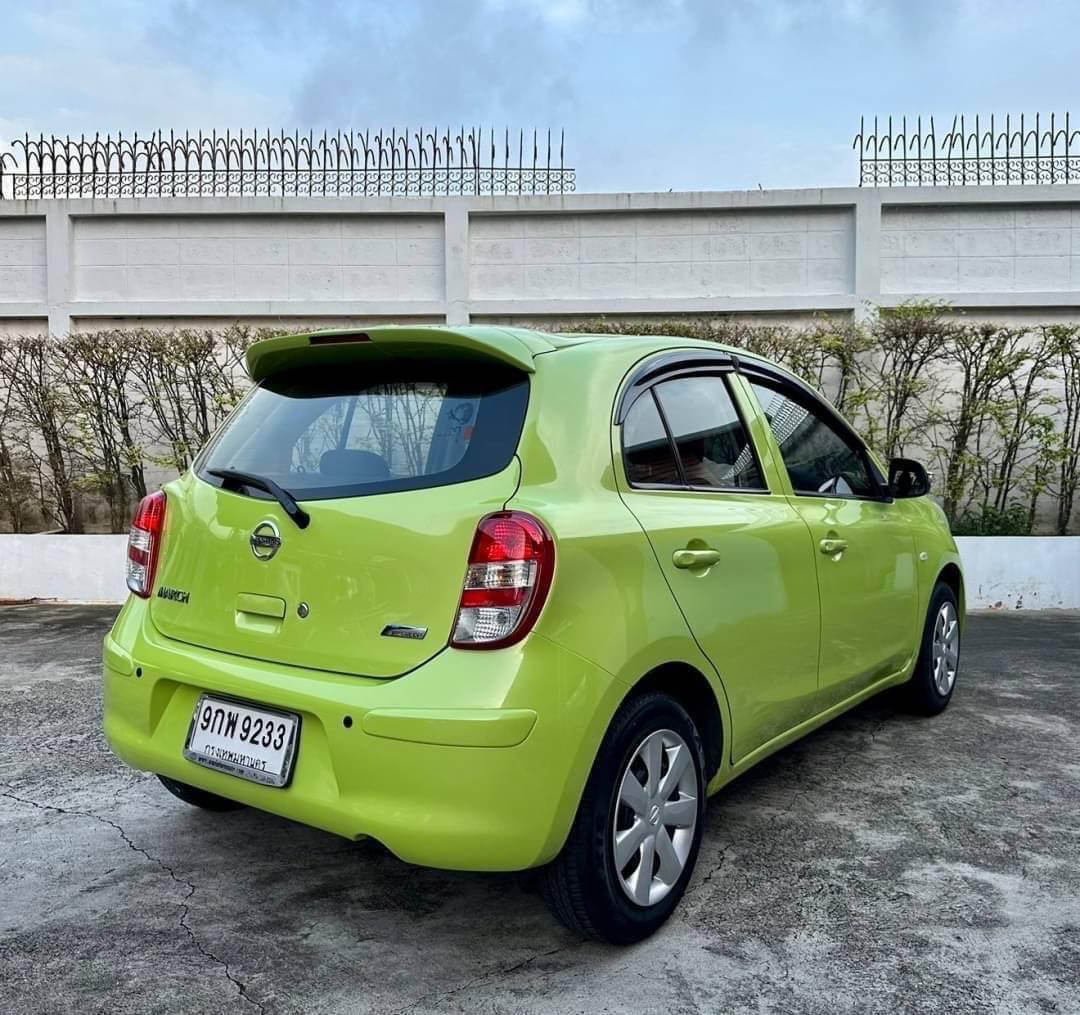license-plate: (181, 686, 305, 791)
